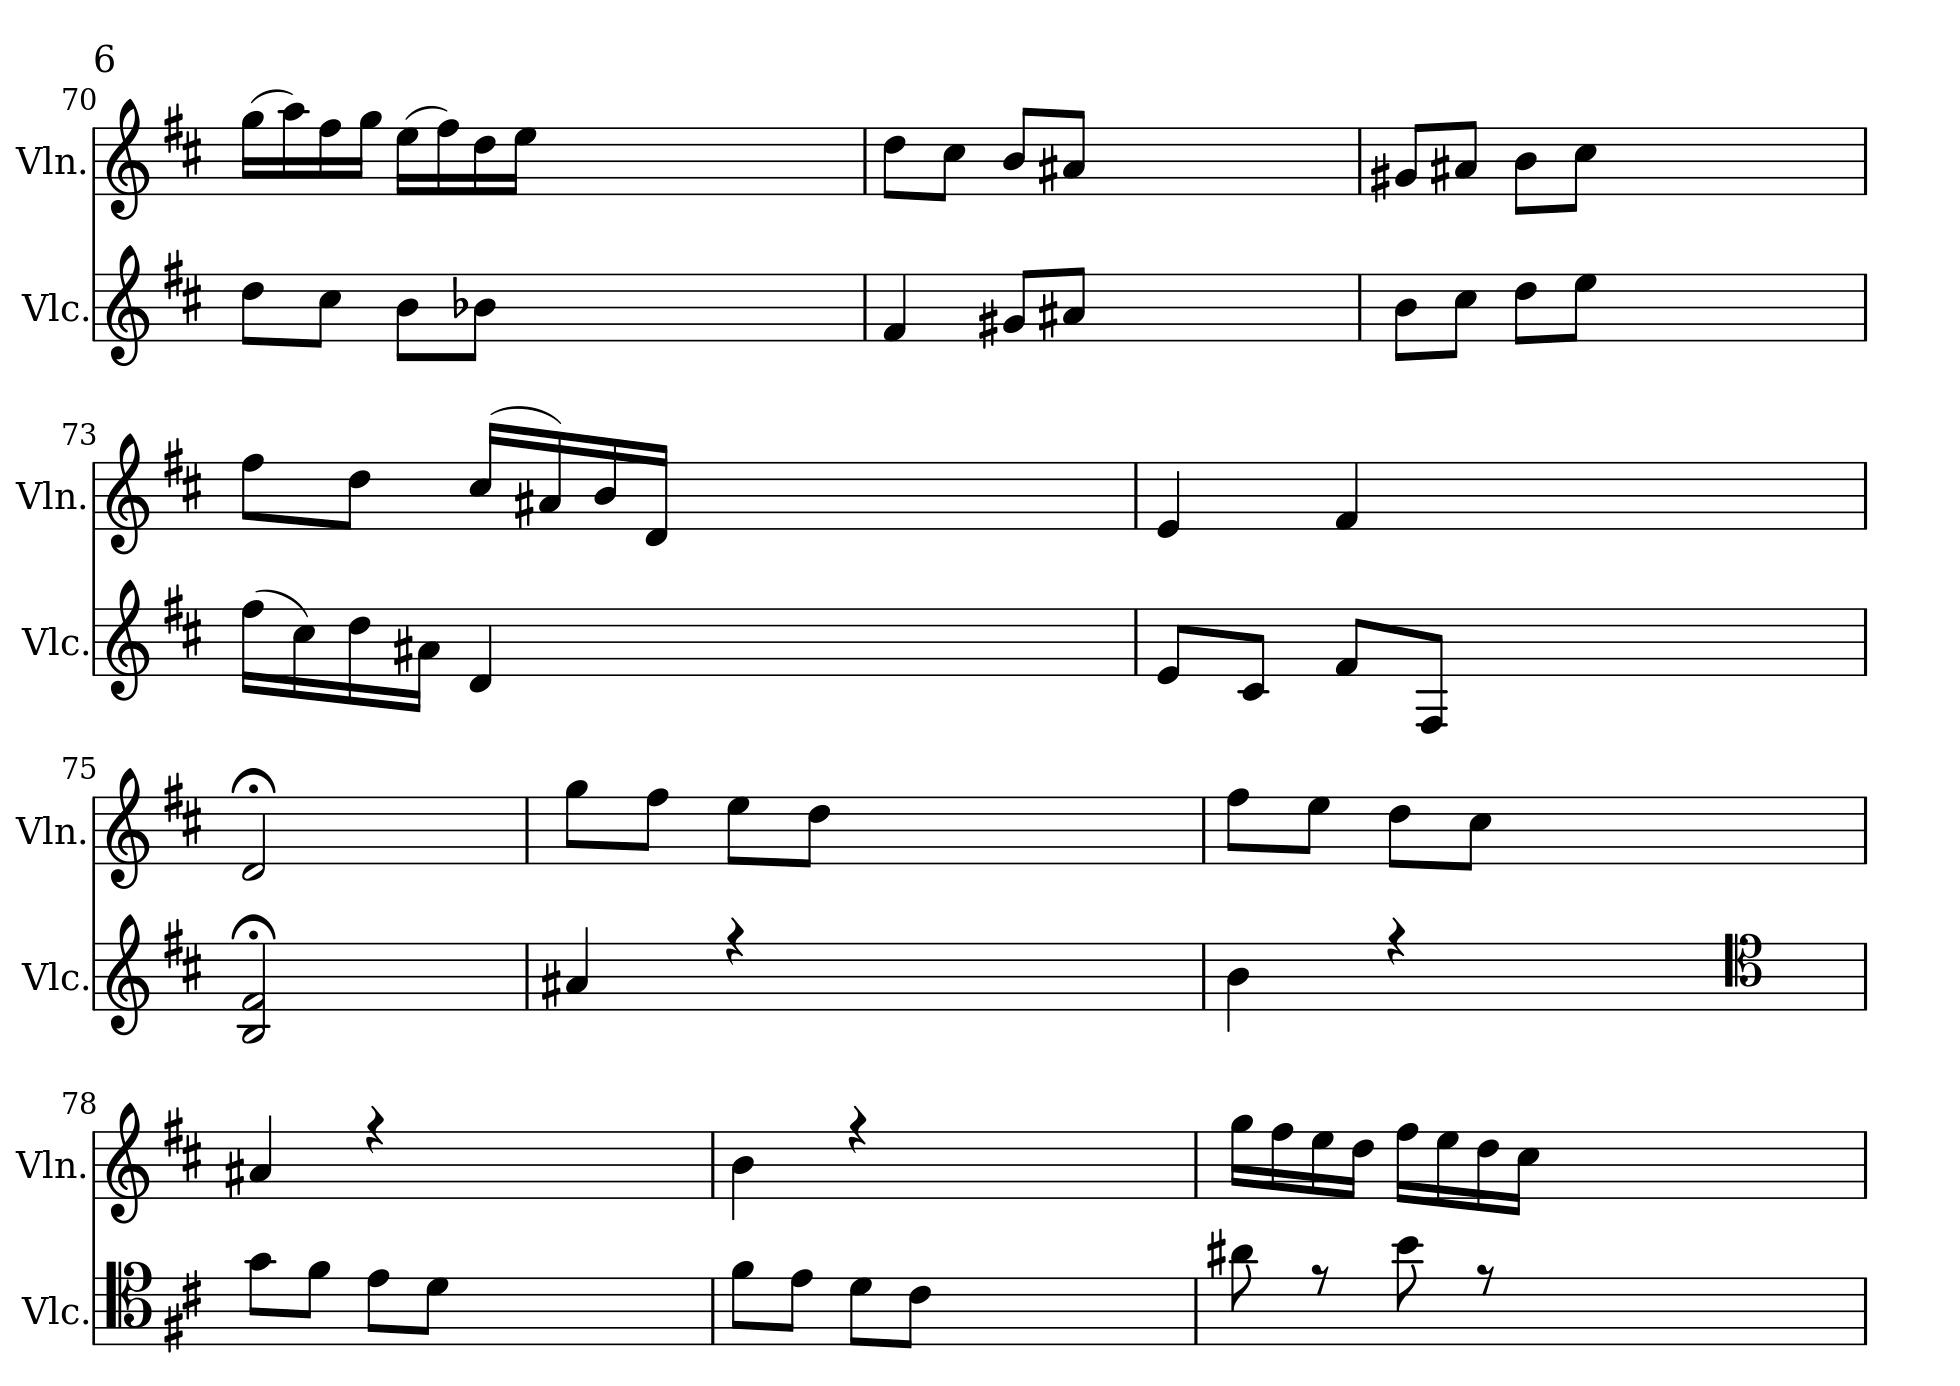0: (79, 84, 96, 112)
16_-1: (643, 439, 670, 547)
16_10: (279, 100, 310, 196)
16_3: (409, 606, 441, 715), (537, 427, 565, 532)
16_4: (592, 433, 619, 529)
16_5: (468, 418, 502, 532), (1509, 1129, 1540, 1215), (289, 604, 316, 702)
16_6: (346, 604, 370, 708), (1344, 1128, 1375, 1201), (1476, 1128, 1500, 1213), (472, 124, 496, 196)
16_7: (505, 126, 537, 196), (1434, 1128, 1459, 1210), (1308, 1128, 1335, 1200), (394, 124, 420, 198)
16_8: (238, 598, 264, 696), (316, 117, 343, 196), (435, 117, 460, 196), (1269, 1120, 1294, 1200), (1395, 1120, 1419, 1204)
16_9: (351, 109, 382, 196), (238, 106, 265, 196), (1230, 1111, 1254, 1200)
2_-1: (241, 793, 265, 880)
2_-3_1: (238, 942, 271, 1044)
3: (79, 420, 97, 447)
4_-1: (466, 606, 495, 694)
4_0: (1158, 460, 1183, 538)
4_1: (1335, 460, 1362, 532), (882, 273, 909, 343)
4_3: (565, 924, 592, 1009), (249, 1111, 274, 1198)
4_4: (1224, 939, 1251, 1032), (729, 1128, 756, 1219)
5: (79, 753, 97, 781)
6: (94, 40, 115, 72)
7: (61, 418, 79, 447), (61, 1087, 78, 1116), (61, 753, 78, 780), (61, 84, 76, 112)
8: (79, 1087, 97, 1116)
8_-2: (1239, 606, 1269, 702)
8_-6: (1417, 606, 1447, 735)
8_0: (1155, 606, 1191, 685)
8_1: (1335, 606, 1368, 676)
8_10: (246, 1249, 274, 1345)
8_11: (1228, 1242, 1260, 1347)
8_12: (1392, 1234, 1425, 1347)
8_2: (1003, 265, 1036, 343), (1395, 120, 1428, 196)
8_3: (1062, 108, 1087, 196), (1062, 264, 1087, 342), (1455, 118, 1479, 196)
8_4: (463, 271, 496, 363), (1002, 105, 1035, 195), (1512, 124, 1539, 217), (1392, 271, 1419, 364), (394, 271, 420, 364)
8_5: (1564, 124, 1599, 214), (1446, 271, 1479, 361), (931, 124, 967, 202), (307, 271, 342, 349), (1459, 793, 1492, 871)
8_6: (796, 793, 832, 868), (898, 1275, 931, 1348), (337, 460, 370, 531), (880, 124, 907, 201), (1512, 271, 1539, 348), (1387, 793, 1413, 871), (240, 271, 265, 348)
8_7: (1563, 271, 1597, 343), (1299, 793, 1332, 865), (415, 1275, 448, 1345), (724, 793, 751, 867), (847, 1275, 871, 1347)
8_8: (634, 786, 670, 865), (778, 1267, 813, 1347), (238, 451, 265, 531), (1224, 786, 1251, 865), (364, 1266, 391, 1345)
8_9: (295, 1258, 330, 1345), (562, 778, 589, 865), (730, 1258, 754, 1345)
D_S: (162, 1267, 202, 1348), (162, 100, 202, 177), (162, 247, 202, 324), (162, 1104, 202, 1180), (163, 435, 202, 511), (163, 582, 202, 658), (163, 769, 202, 846), (163, 916, 202, 991)
Fermata_above: (229, 765, 277, 795), (229, 912, 277, 940)
Flat: (450, 274, 468, 319)
Gclef: (103, 910, 150, 1036), (103, 243, 150, 367), (103, 430, 150, 555), (103, 1101, 150, 1225), (103, 97, 150, 220), (103, 577, 150, 700), (103, 766, 150, 889)
Rests4: (723, 913, 745, 964), (1386, 913, 1408, 964), (846, 1102, 868, 1153), (364, 1102, 385, 1153)
Rests8: (1476, 1260, 1497, 1293), (1311, 1261, 1330, 1294)
Sharp: (538, 957, 562, 1009), (1369, 150, 1392, 204), (223, 1144, 246, 1198), (976, 297, 999, 349), (1429, 142, 1450, 196), (513, 477, 534, 531), (1038, 142, 1059, 195), (1038, 289, 1059, 342), (391, 624, 412, 676), (1206, 1225, 1227, 1278)
Single_barline: (1350, 126, 1368, 193), (858, 273, 876, 340), (1128, 460, 1146, 528), (856, 127, 874, 193), (1351, 274, 1369, 340), (517, 796, 535, 862), (1195, 796, 1213, 862), (1195, 943, 1213, 1009), (703, 1132, 721, 1198), (1857, 942, 1873, 1009), (1188, 1131, 1204, 1198), (1857, 127, 1873, 193), (1857, 274, 1873, 340), (1857, 462, 1873, 528), (1857, 607, 1873, 673), (1857, 796, 1873, 862), (1857, 1131, 1873, 1197), (1188, 1276, 1204, 1342), (1857, 1276, 1873, 1342), (519, 943, 535, 1008), (705, 1278, 721, 1342), (87, 1276, 102, 1342), (87, 460, 100, 529), (87, 127, 100, 195), (87, 273, 100, 340), (88, 1129, 100, 1198), (88, 607, 100, 675), (88, 796, 100, 862), (88, 943, 100, 1009)
Slur: (256, 586, 310, 618), (490, 403, 562, 424), (249, 87, 295, 103), (403, 103, 448, 120)
Tensor_Cclef: (103, 1260, 151, 1345), (1723, 930, 1764, 1009)
Vlc: (19, 286, 79, 328), (19, 1288, 79, 1330), (19, 621, 79, 661), (21, 957, 79, 996)
Vln: (16, 139, 78, 181), (16, 1144, 78, 1186), (15, 475, 78, 516), (16, 811, 78, 850)
